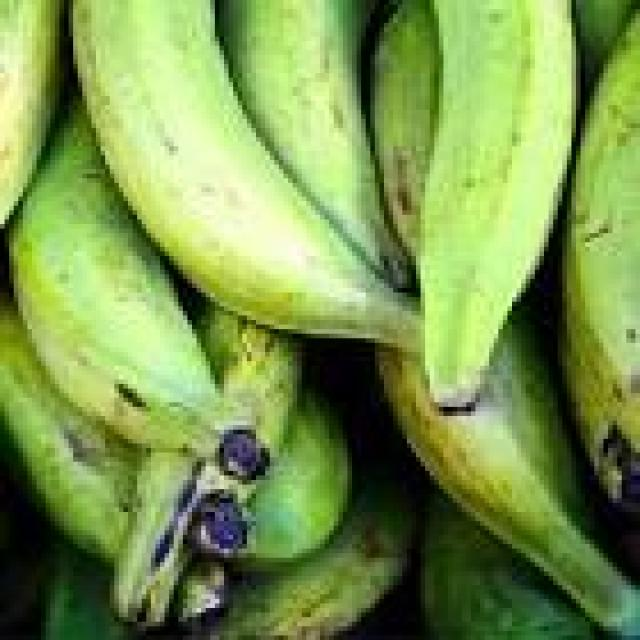banana: (10, 101, 297, 621), (74, 0, 420, 351), (380, 316, 639, 635), (10, 101, 242, 457), (416, 0, 575, 411), (115, 307, 301, 626), (220, 0, 406, 287), (563, 19, 639, 511), (0, 293, 137, 557), (202, 471, 415, 639), (421, 494, 594, 639), (234, 389, 351, 571), (238, 389, 351, 571), (371, 0, 438, 260), (197, 307, 306, 457), (0, 0, 63, 223), (42, 544, 132, 639), (572, 0, 635, 82)
